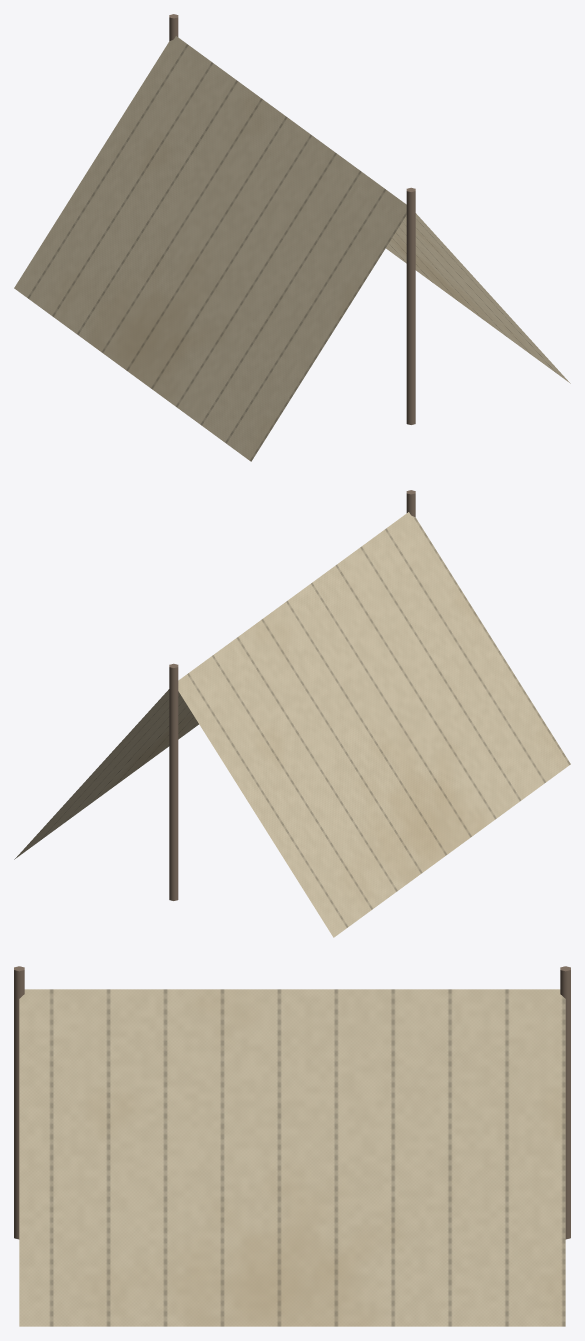
The model's file is SM_Art_Settlement_Camp_1.gltf.
3 renders of one model, top to bottom at view 1: azimuth 30°, elevation 25°; view 2: azimuth 150°, elevation 25°; view 3: azimuth 270°, elevation 25°, orthographic. The views are drawn at different scales.
Visible parts, largest first — view 1: SM_Art_Settlement_Camp_1; view 2: SM_Art_Settlement_Camp_1; view 3: SM_Art_Settlement_Camp_1.
Boxes of the visible parts, left/top/right/bottom form: SM_Art_Settlement_Camp_1: left=14, top=14, right=570, bottom=461; SM_Art_Settlement_Camp_1: left=14, top=490, right=570, bottom=937; SM_Art_Settlement_Camp_1: left=14, top=966, right=570, bottom=1326.
Size of the model in its own units: 2.8 by 1.95 by 3.67.
